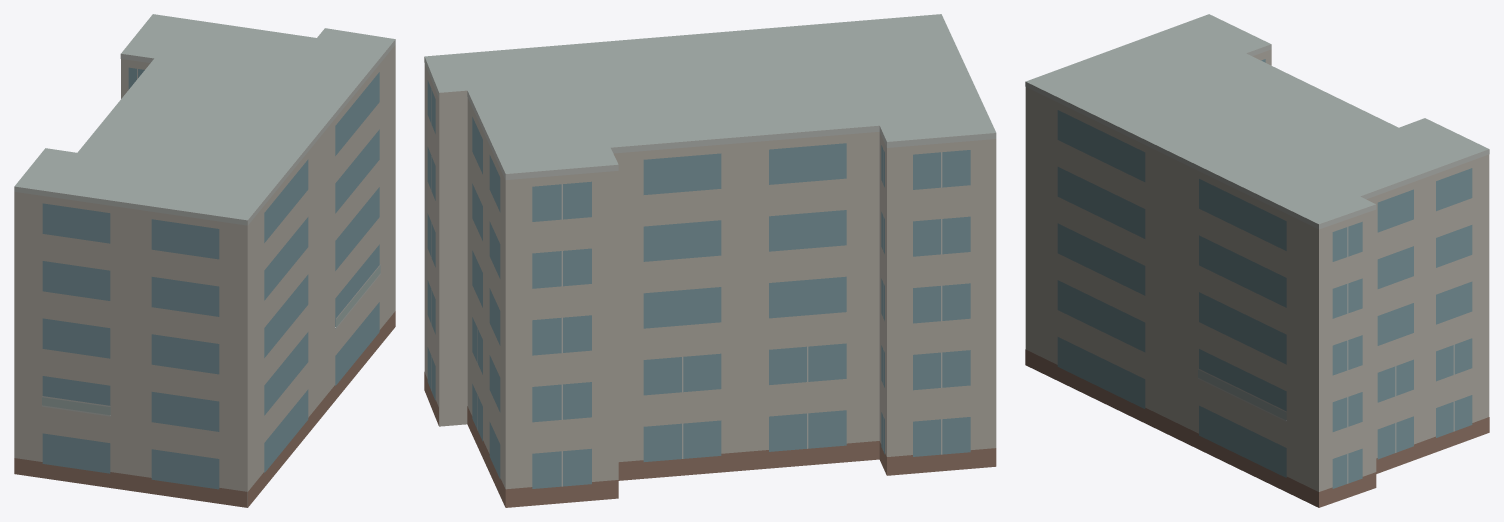
Rendered from survey-upis-32968160.glb.
3 views of the same model, side by side, from view 1: azimuth 30°, elevation 25°; view 2: azimuth 150°, elevation 25°; view 3: azimuth 270°, elevation 25° (orthographic). The views are drawn at different scales.
Visible parts, largest first — view 1: survey-upis-32968160.tmp; view 2: survey-upis-32968160.tmp; view 3: survey-upis-32968160.tmp.
Boxes of the visible parts, box(x1,y1,x2,y2) form: survey-upis-32968160.tmp: box(14, 14, 395, 507); survey-upis-32968160.tmp: box(424, 14, 996, 507); survey-upis-32968160.tmp: box(1025, 14, 1489, 507).
Size of the model in its own units: 21.32 by 13.4 by 19.88.
